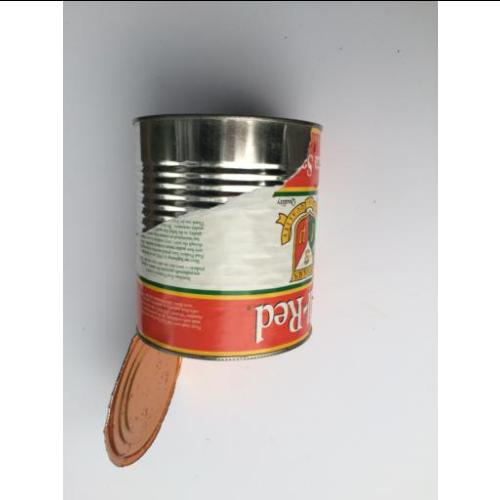metal: (134, 112, 315, 355)
